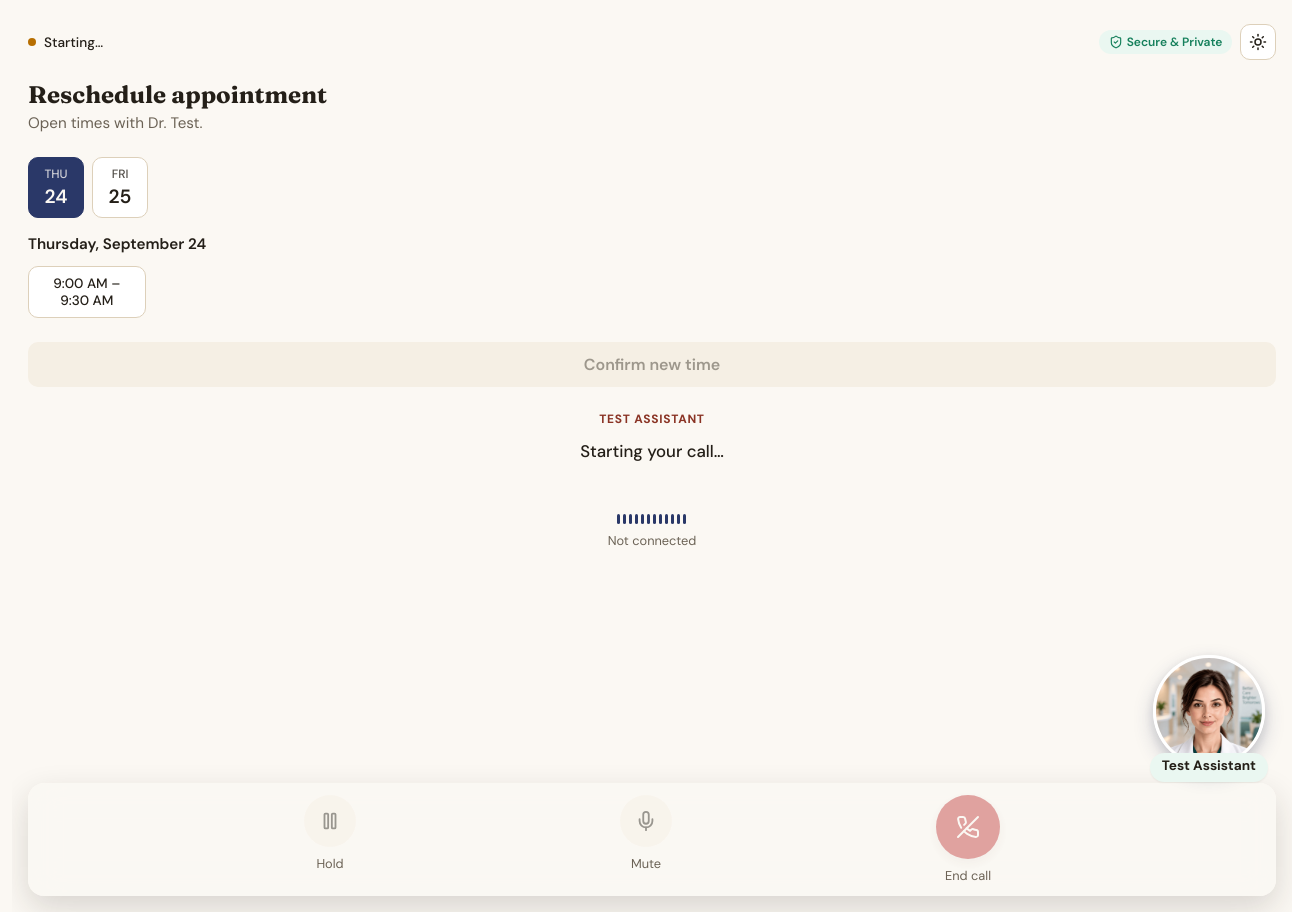
AppointmentReschedule › disables Confirm until a time is picked, then moves the appointment
This screenshot has width=1292, height=912.
expect the button "Confirm new time" is disabled: met, box left=28, top=342, right=1276, bottom=387
Click the button "9:00 AM – 9:30 AM" at (87, 292), box left=28, top=266, right=146, bottom=318
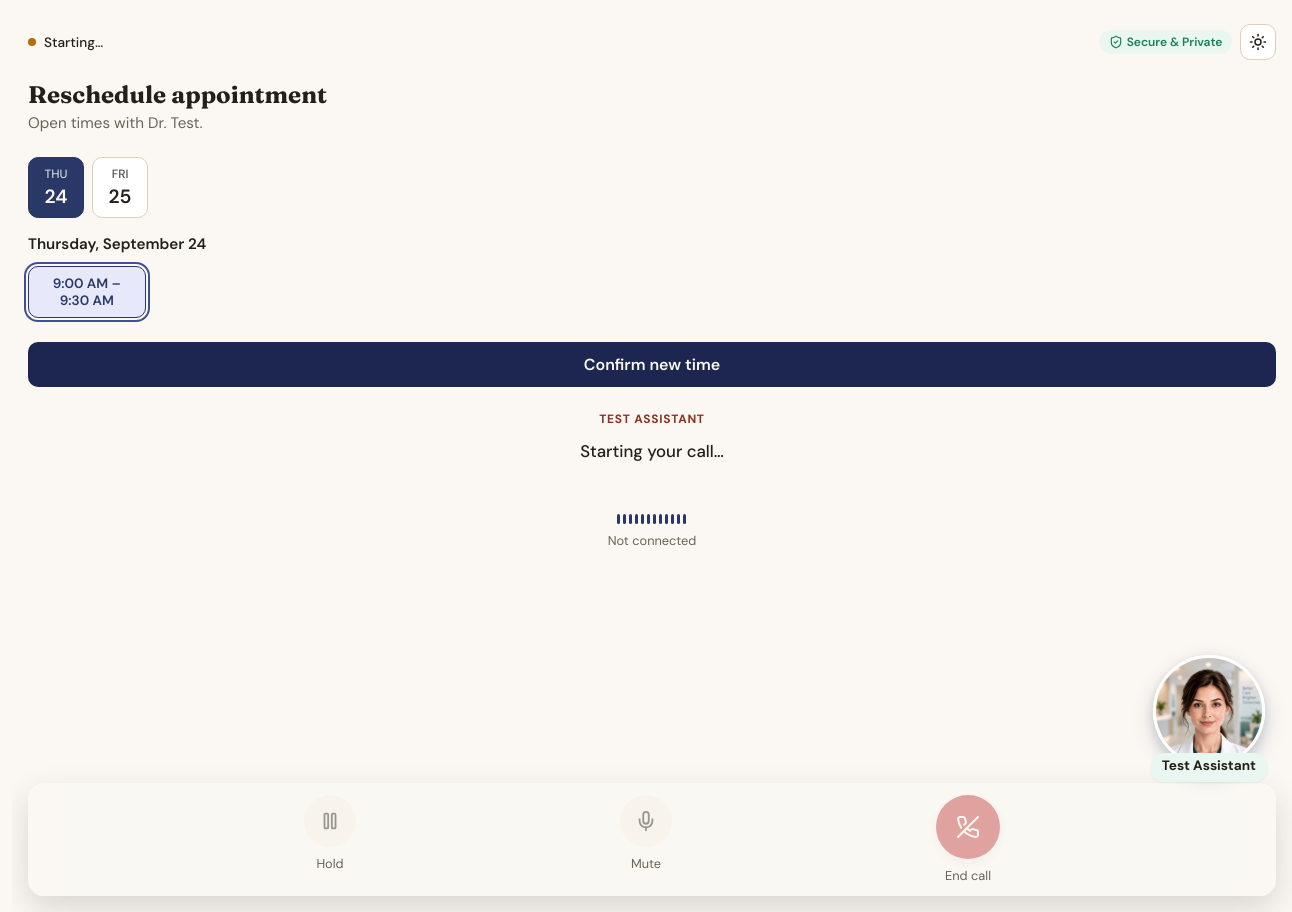
expect the button "Confirm new time" is enabled: met
Click the button "Confirm new time" at (652, 364), box left=28, top=342, right=1276, bottom=387
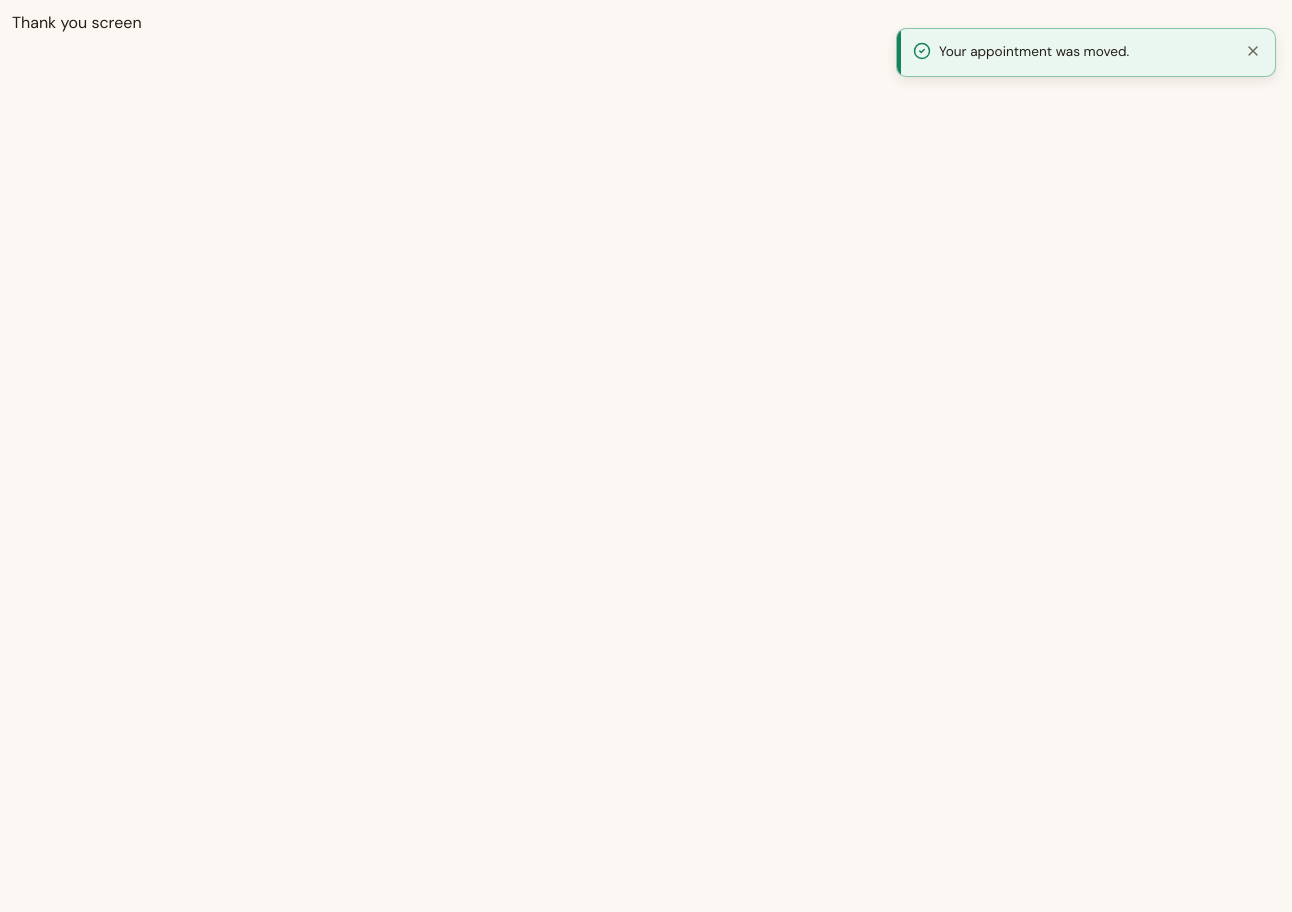
expect the text "Thank you screen" is shown: met, box left=12, top=12, right=142, bottom=33
